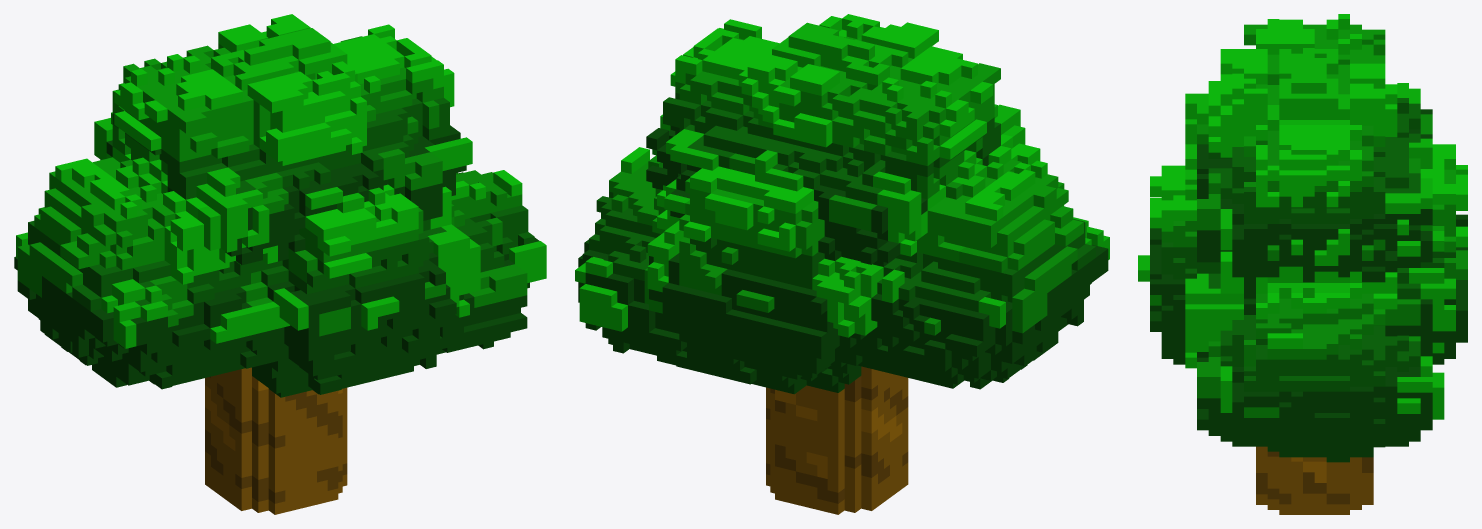
File: Tree 2.fbx
3 views of the same model, side by side, from view 1: azimuth 30°, elevation 25°; view 2: azimuth 150°, elevation 25°; view 3: azimuth 270°, elevation 25° (orthographic). The views are drawn at different scales.
Parts seen in each view (by area): view 1: Tree 2; view 2: Tree 2; view 3: Tree 2.
Part boxes in pixels (x1,y1,x2,y2): Tree 2: (14,14,546,514); Tree 2: (575,14,1109,514); Tree 2: (1138,14,1467,514).
Size of the model in its own units: 430 by 400 by 280.
